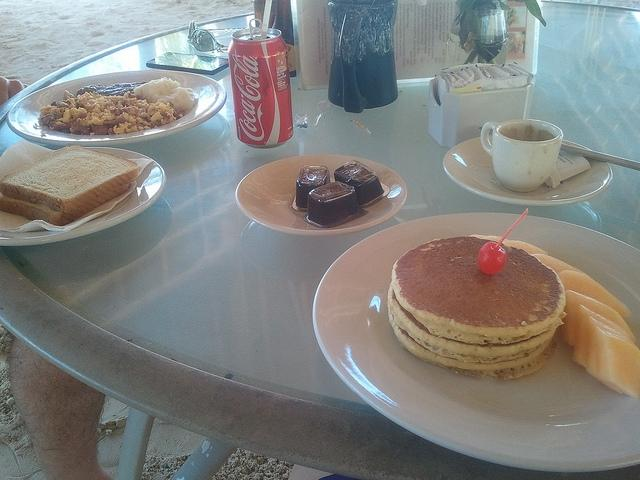cherry: (478, 207, 528, 274)
